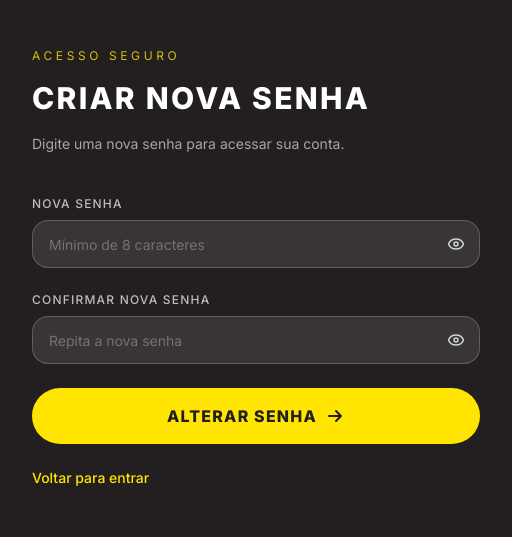
AuthResetPasswordForm › shows success and login CTA after a successful reset
This screenshot has width=529, height=554.
Step 1. Type "novasenha123" into the password field labelled "Nova senha" → [256, 244], box [32, 220, 480, 268]
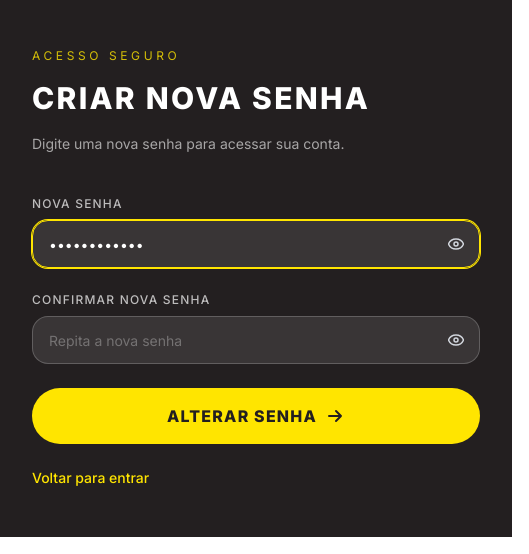
Step 2. Type "novasenha123" into the password field labelled "Confirmar nova senha" → [256, 340], box [32, 316, 480, 364]
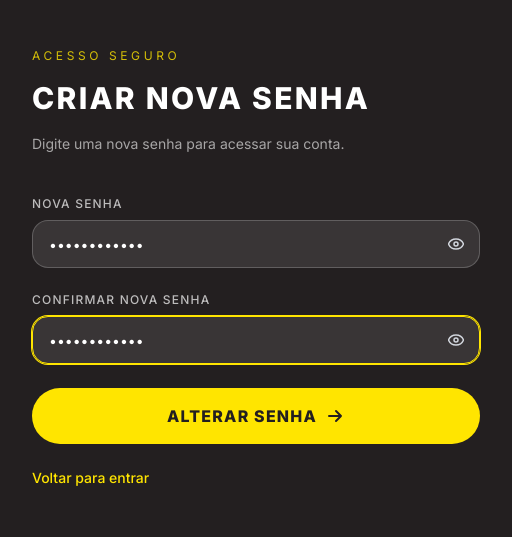
Step 3. Click the button "Alterar senha" → [256, 416], box [32, 388, 480, 444]
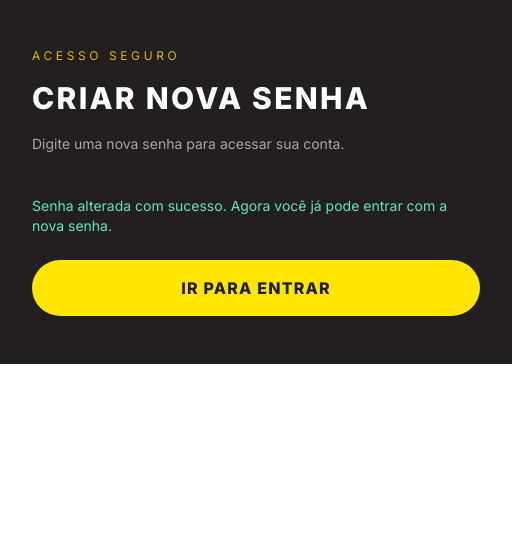
Expected: the text "Senha alterada com sucesso. Agora você já pode entrar com a nova senha." is shown, [32, 196, 480, 236]
